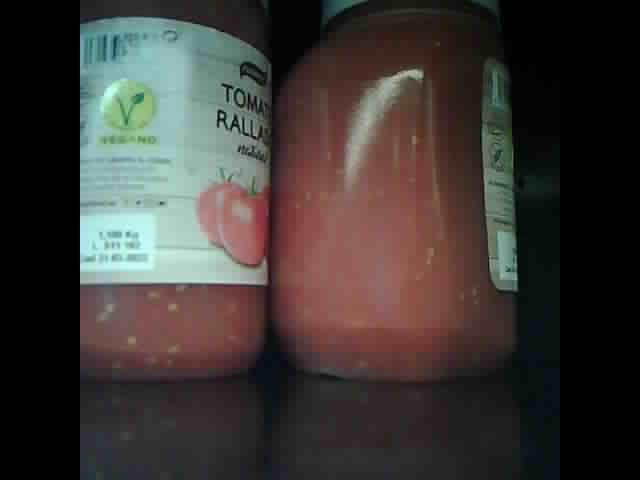tomate: (275, 6, 519, 378), (82, 3, 272, 384)
